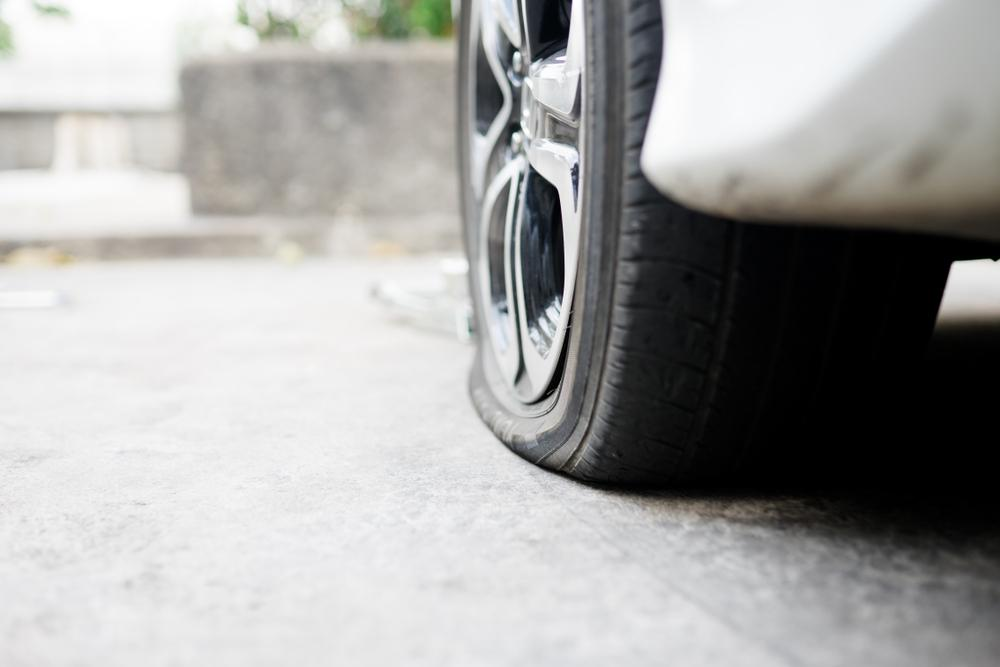tire flat: (451, 0, 794, 488)
